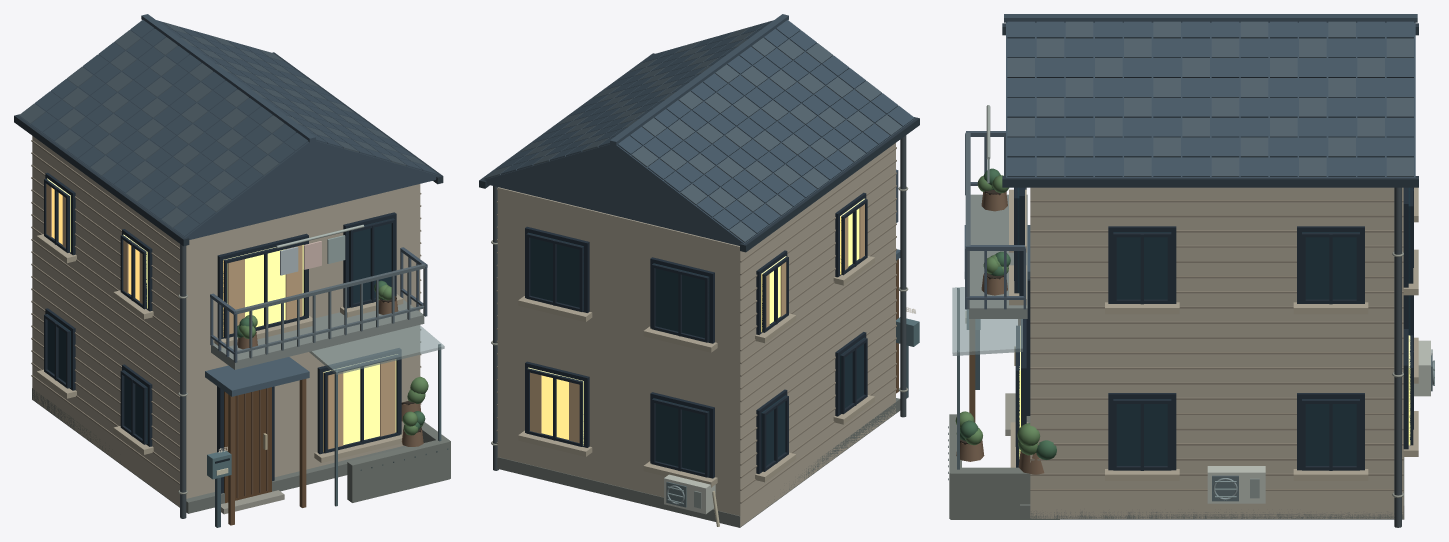
The model's file is townhouse.glb.
The picture shows the model from 3 angles, left to right: view 1: azimuth 30°, elevation 25°; view 2: azimuth 150°, elevation 25°; view 3: azimuth 270°, elevation 25°; orthographic projection. The views are drawn at different scales.
Visible parts, largest first — view 1: 森田家, Group_288, Group_299, Group_274, Group_310, Group_320, Group_368, Group_386, Group_377, Group_397, Group_336, Group_343; view 2: 森田家, Group_453, Group_473, Group_462, Group_444, Group_368, Group_397, Group_377, Group_386, Group_491; view 3: 森田家, Group_426, Group_435, Group_408, Group_417, Group_482, Group_288, Group_462, Group_473, Group_310, Group_343, Group_274 (+3 smaller).
Part boxes in pixels (box(x1,y1,x2,y2)): 森田家: box(14, 14, 450, 527); Group_288: box(314, 348, 402, 462); Group_299: box(214, 233, 312, 348); Group_274: box(217, 386, 284, 514); Group_310: box(340, 212, 403, 317); Group_320: box(233, 264, 425, 361); Group_368: box(113, 364, 153, 454); Group_386: box(113, 229, 153, 319); Group_377: box(36, 308, 76, 398); Group_397: box(36, 172, 76, 263); Group_336: box(210, 293, 237, 362); Group_343: box(400, 247, 427, 316); 森田家: box(479, 14, 919, 527); Group_453: box(643, 257, 717, 352); Group_473: box(518, 226, 592, 321); Group_462: box(518, 361, 592, 456); Group_444: box(643, 392, 717, 487); Group_368: box(833, 332, 874, 424); Group_397: box(755, 250, 796, 343); Group_377: box(755, 389, 796, 482); Group_386: box(833, 192, 874, 285); Group_491: box(664, 474, 719, 526); 森田家: box(948, 14, 1418, 527); Group_426: box(1105, 226, 1179, 314); Group_435: box(1293, 226, 1368, 314); Group_408: box(1105, 393, 1179, 480); Group_417: box(1293, 393, 1368, 480); Group_482: box(1207, 466, 1265, 503); Group_288: box(1010, 319, 1028, 467); Group_462: box(1403, 329, 1418, 456); Group_473: box(1403, 187, 1418, 295); Group_310: box(1009, 187, 1026, 305); Group_343: box(965, 245, 1025, 309); Group_274: box(1005, 279, 1030, 435).
Size of the model in its own units: 5.32 by 6.9 by 6.97.
Materials: 48 (1 with a texture image).
